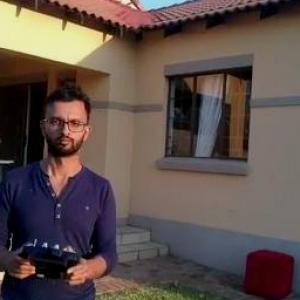follow: (0, 78, 121, 299)
